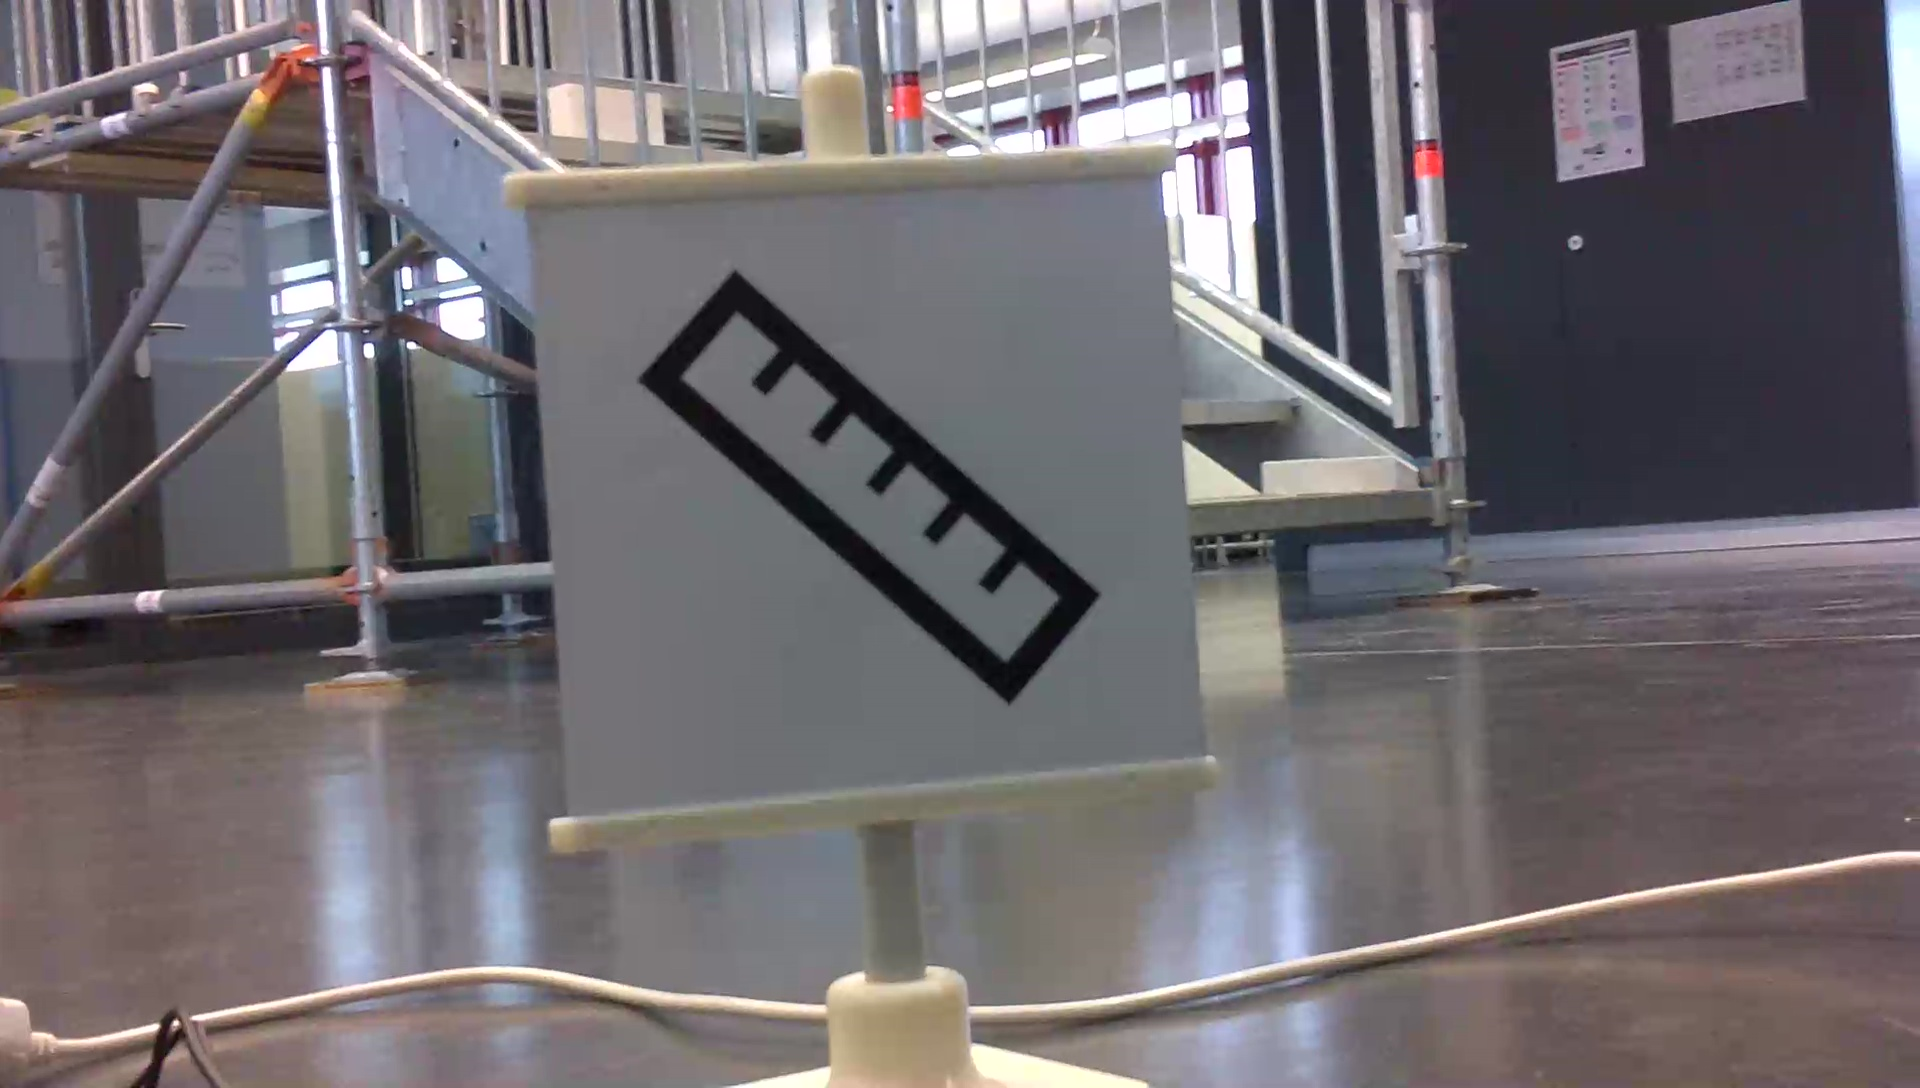ruler: (626, 264, 1105, 710)
